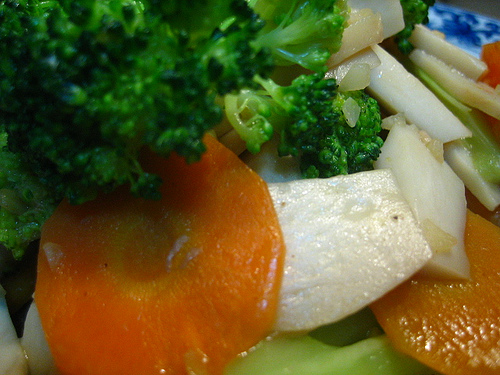broccoli: (0, 0, 266, 254), (251, 70, 385, 180), (244, 0, 351, 69)
